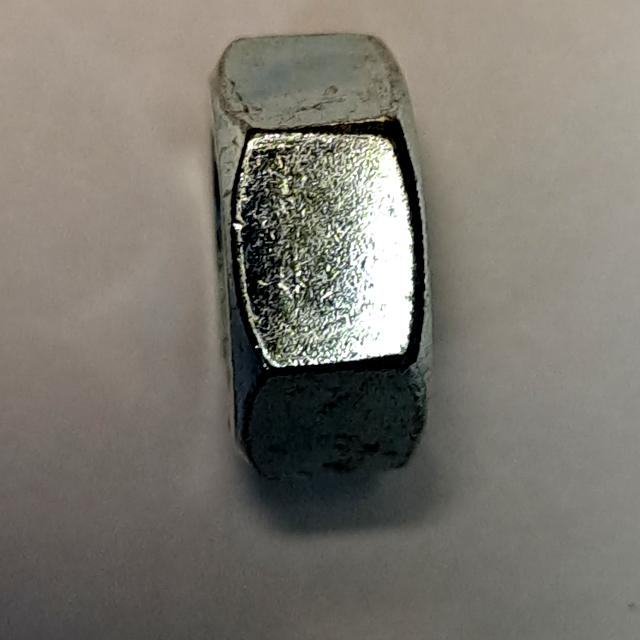Side_Excellent: (190, 23, 453, 500)
